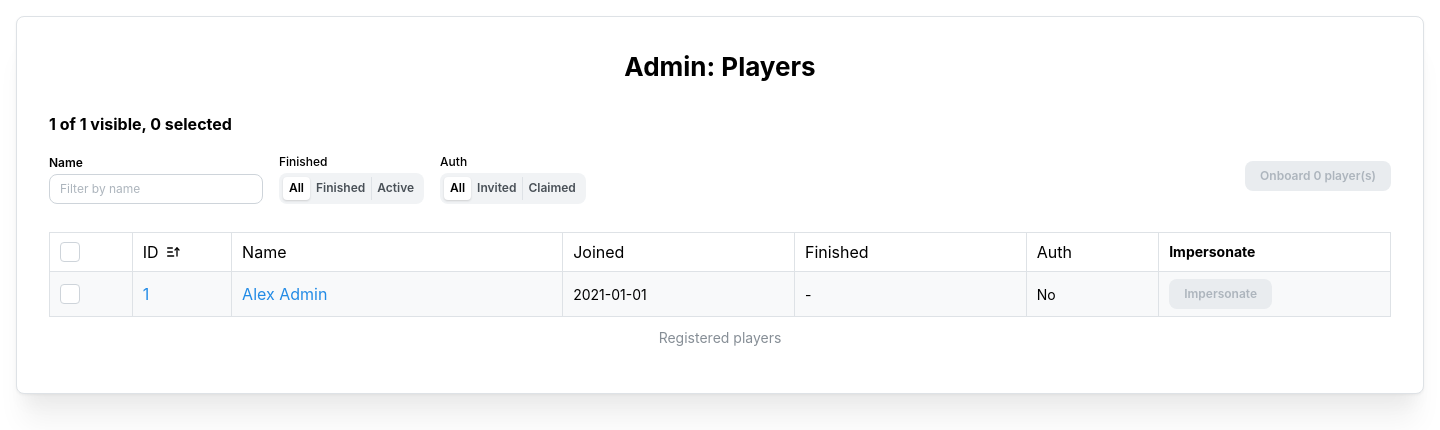
it: AdminPlayerList › onboard button › remains enabled after a player is selected
Click the checkbox named "Select Alex Admin" at point(70, 294), box [60, 284, 80, 304]
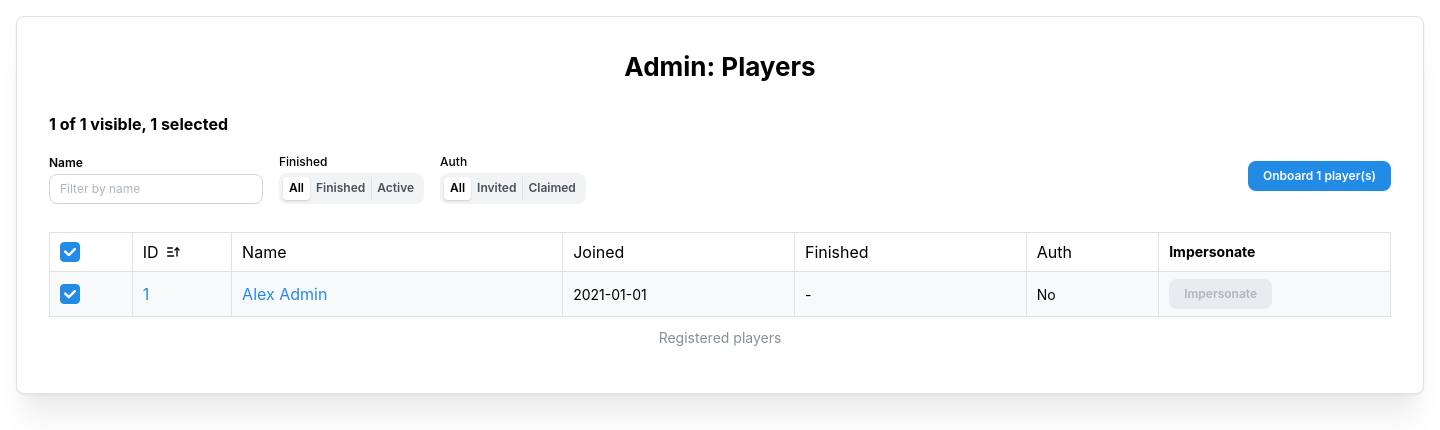
Expected: the button "Onboard 1 player(s)" is enabled, [1248, 161, 1391, 191]
